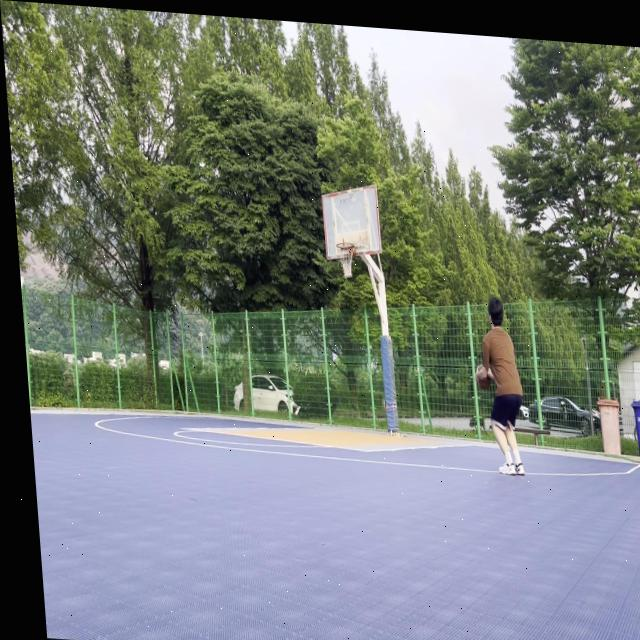basketball: (475, 364, 491, 391)
hoop: (336, 242, 357, 281)
